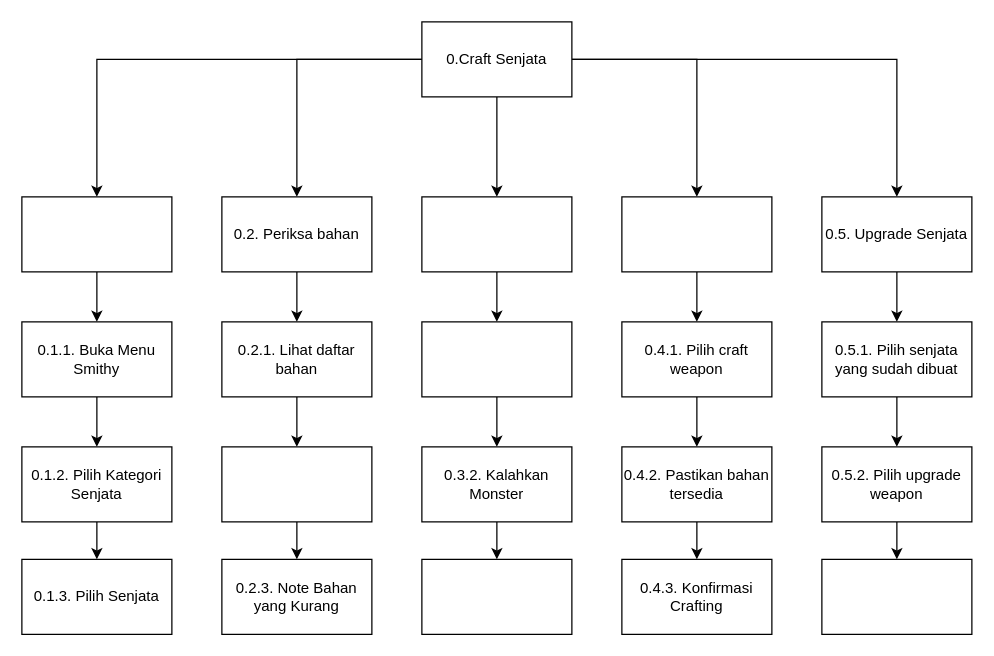
Some shapes in this 994 by 656 pixel diagram are drawn without their labels. The centre of each missing label's shape, as x and y in pixels:
0.1. Pilih senjata: point (96, 234)
0.2.2. Cek Inventori: point (296, 484)
0.3. Dapatkan bahan yang kurang: point (496, 234)
0.3.1. Pilih Monster yang drop bahan tersebut: point (496, 359)
0.3.3. Kembalik ke base: point (496, 596)
0.4. Craft senjata: point (696, 234)
0.5.3. Konfirmasi upgrade: point (896, 596)
